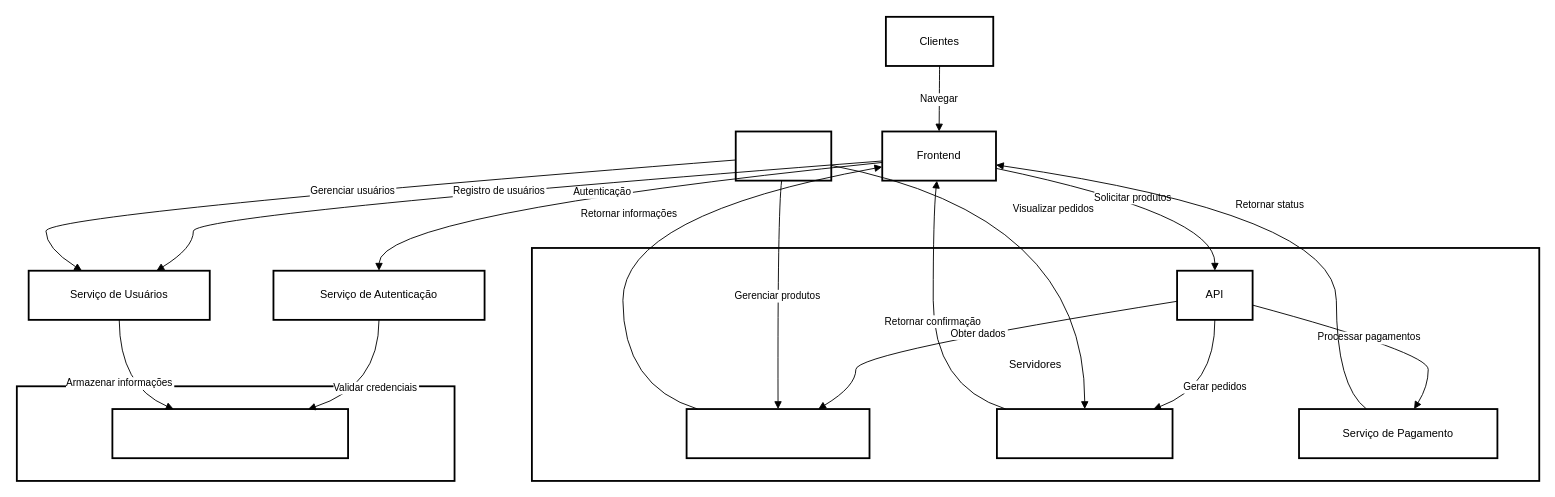
This 1555x497 diagram has some shape labels left out. Here are the shapes that lost their labels. From the top down, the centre of each, then its label:
At point (783, 155): "Admin".
At point (230, 433): "Banco de Dados de Usuários".
At point (777, 433): "Serviço de Catálogo".
At point (1084, 433): "Serviço de Pedidos".
